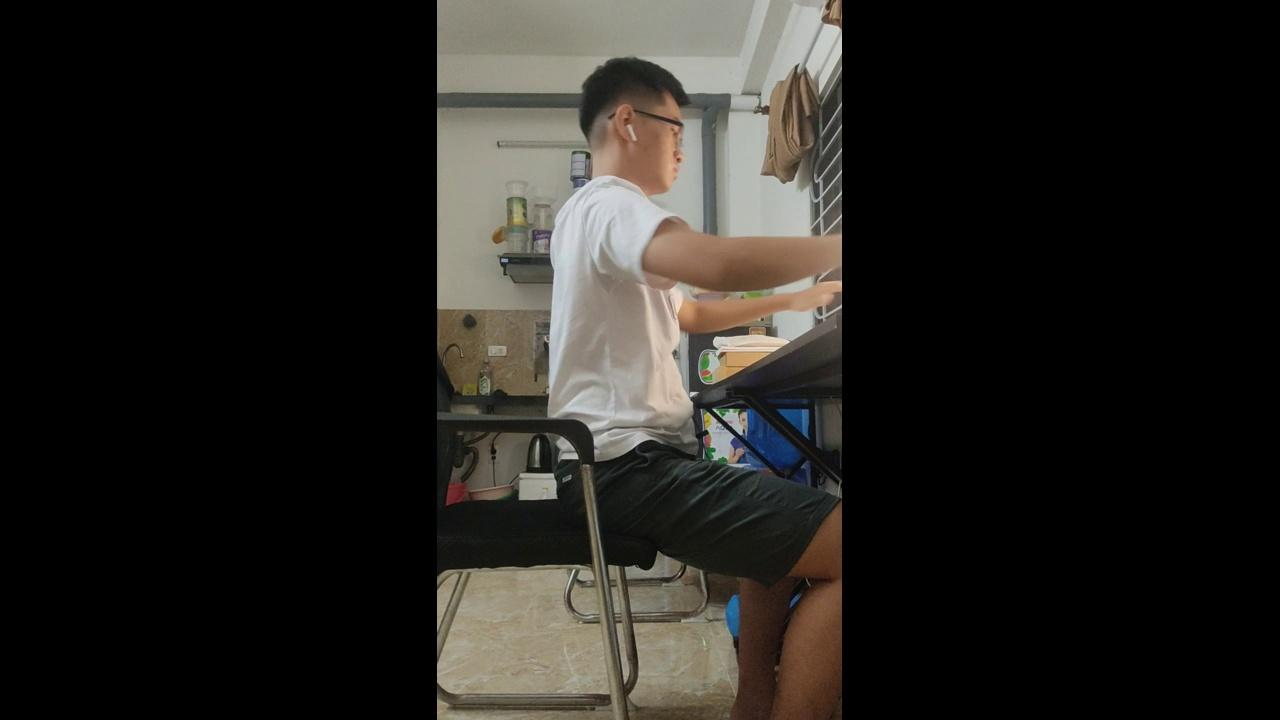GoodPosture: (548, 57, 842, 719)
